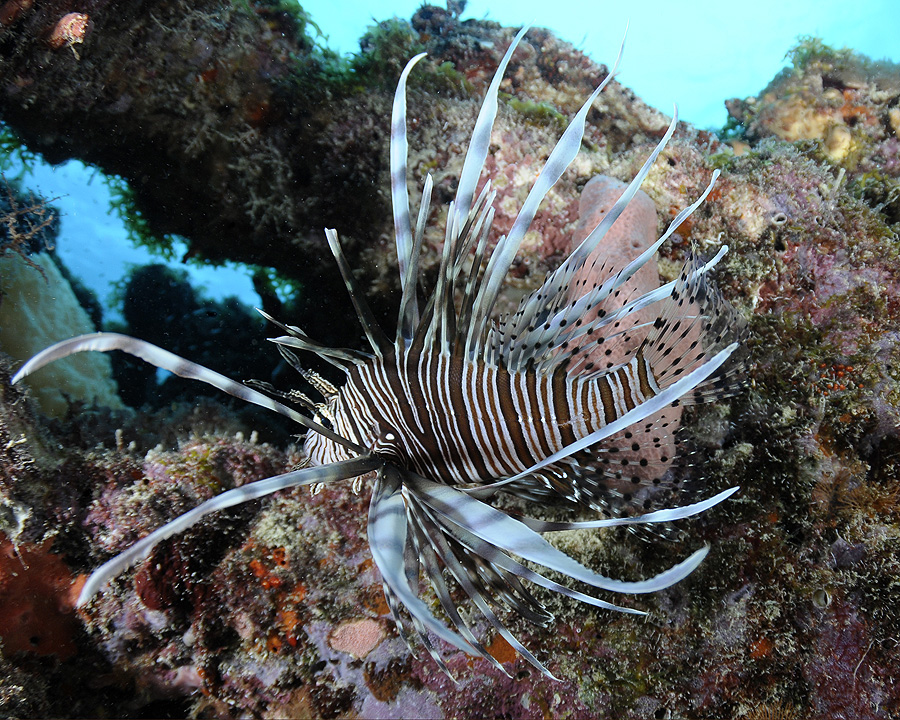Pterois_volitans: (83, 92, 730, 605)
